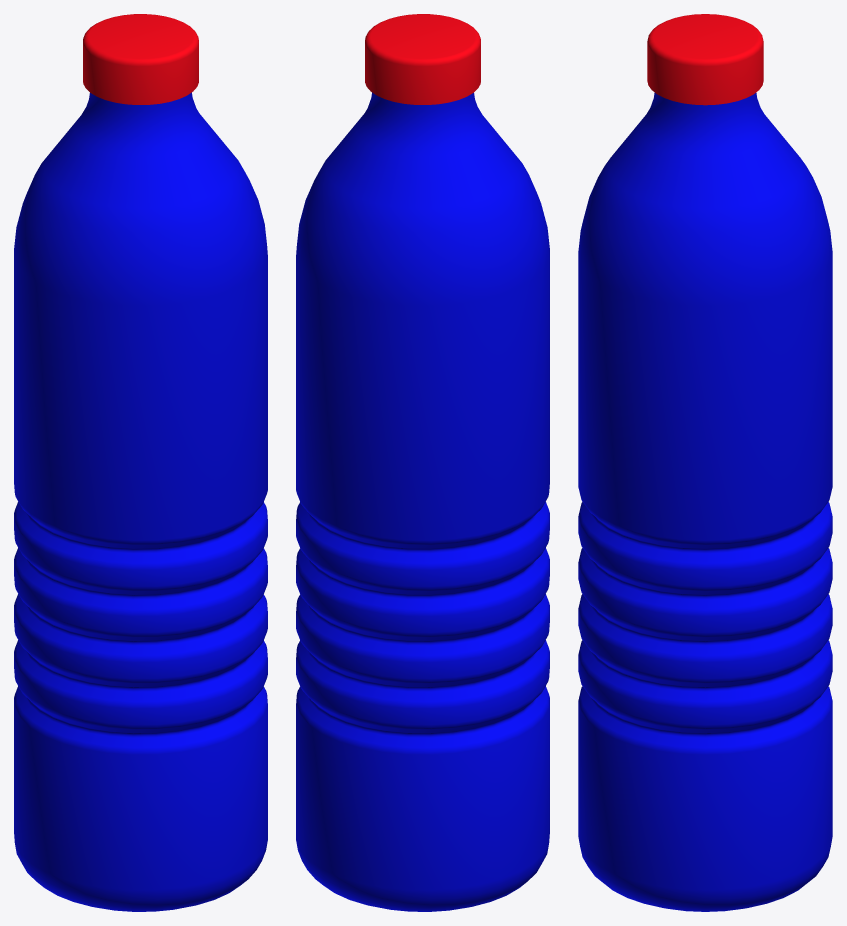
The model's file is Plastic Bottle With Cap.fbx.
3 renders of one model, left to right at view 1: azimuth 30°, elevation 25°; view 2: azimuth 150°, elevation 25°; view 3: azimuth 270°, elevation 25°, orthographic.
Visible parts, largest first — view 1: Botol Plastik; view 2: Botol Plastik; view 3: Botol Plastik.
Part boxes in pixels (x1,y1,x2,y2): Botol Plastik: [14, 14, 267, 911]; Botol Plastik: [296, 14, 549, 911]; Botol Plastik: [578, 14, 832, 911].
Size of the model in its own units: 132 by 478 by 132.
